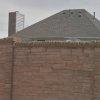Chimney: (8, 6, 33, 45)
